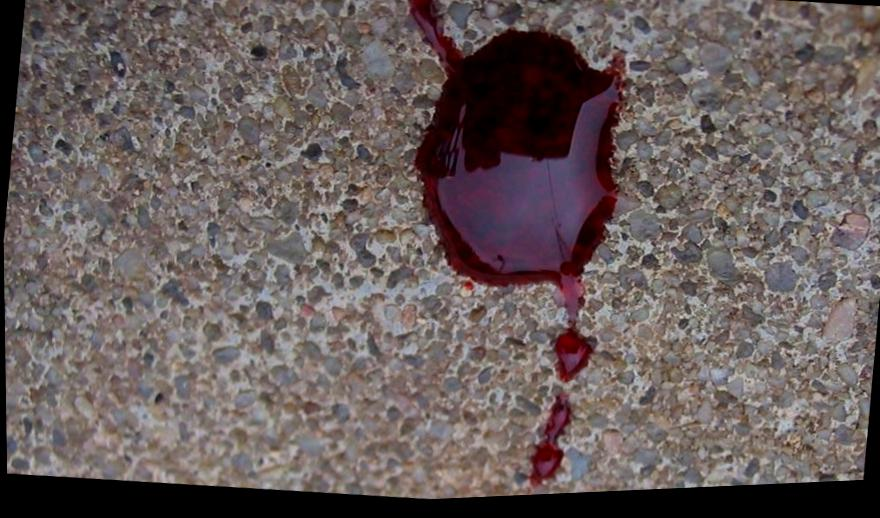Fire: (405, 0, 626, 389), (527, 398, 570, 494)
